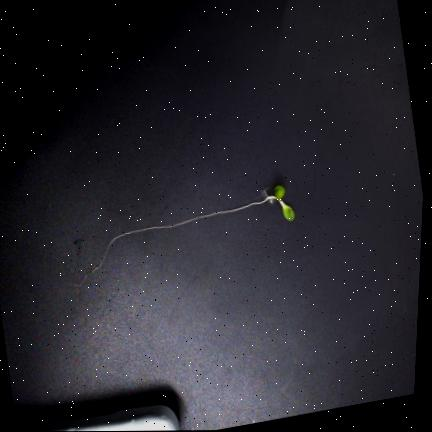leaf1: (282, 203, 294, 220)
leaf2: (274, 185, 285, 198)
root: (73, 204, 248, 285)
stem: (248, 195, 282, 206)
